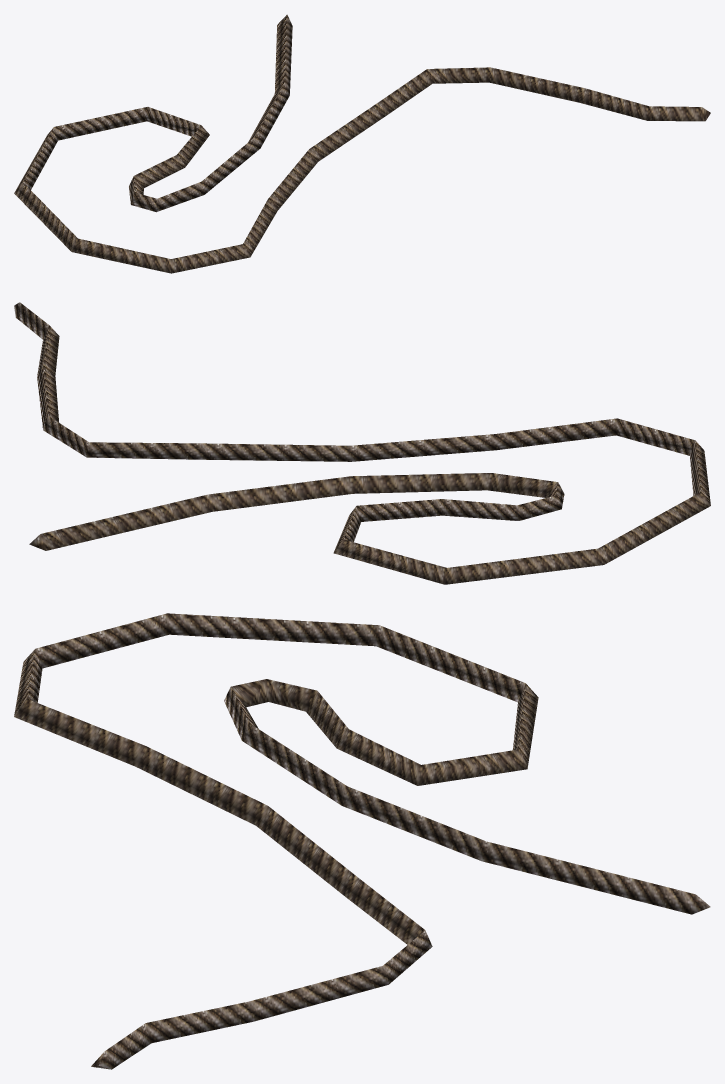
The model's file is Rope3_LOD1.fbx.
3 renders of one model, top to bottom at view 1: azimuth 30°, elevation 25°; view 2: azimuth 150°, elevation 25°; view 3: azimuth 270°, elevation 25°, orthographic. The views are drawn at different scales.
Visible parts, largest first — view 1: polySurface1137; view 2: polySurface1137; view 3: polySurface1137.
Boxes of the visible parts, bbox=[...] form: polySurface1137: bbox=[14, 14, 710, 273]; polySurface1137: bbox=[14, 302, 710, 584]; polySurface1137: bbox=[14, 613, 710, 1069].
Bounding box in the file's own units: 4.14 × 0.0788 × 2.72.
